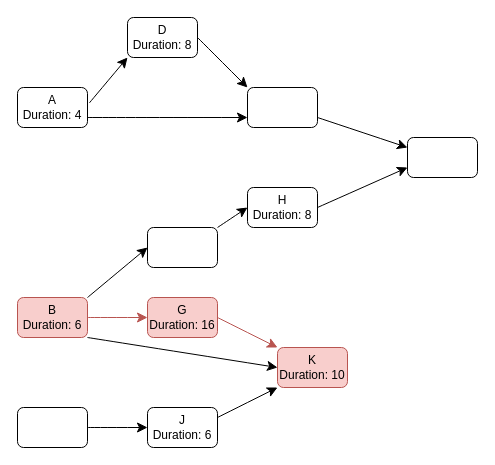
The diagram is 495 pixels wide and 465 high, and some of its shapes have lost their labels. Here are the shapes that lost their labels. From the top down, the box of each, then its label:
(246, 86, 318, 128): E Duration: 4
(406, 136, 478, 178): I Duration: 6
(146, 226, 218, 268): F Duration: 10
(16, 406, 88, 448): C Duration: 2
